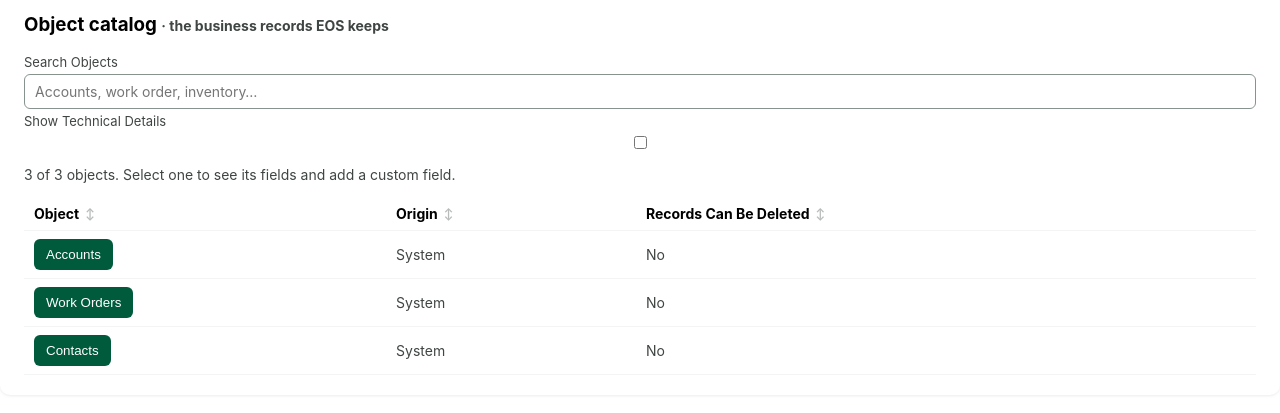
Scenario: Objects catalog › searches by business name and hides keys until technical details are on
In the search field labelled "Search Objects": (640, 92) [24,74,1256,109], type "work"
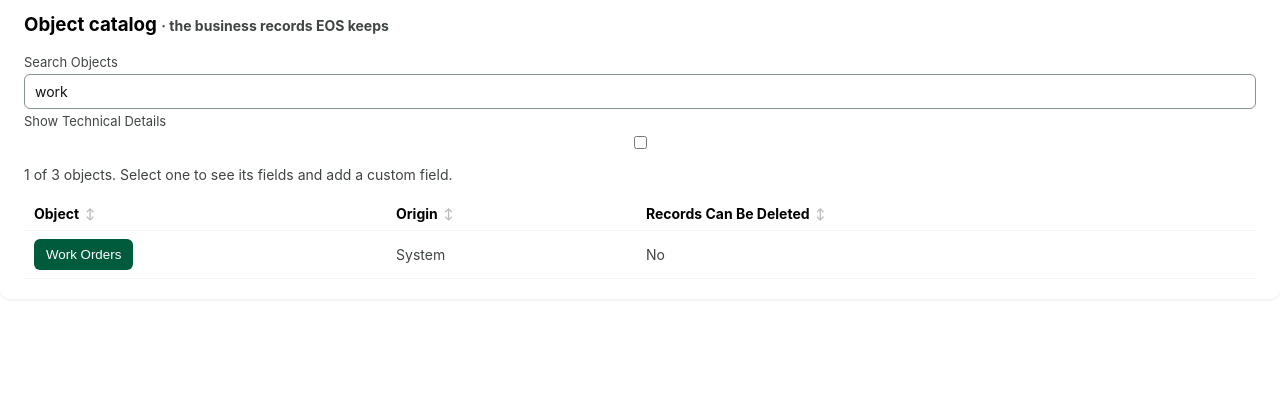
Check: the button "Work Orders" is shown, box [34,239,133,270]
Check: the text "1 of 3 objects" is shown, box [24,166,452,183]
Check: the button "Accounts" is gone
Click the checkbox labelled "Show Technical Details": click(640, 143) [28,136,1253,149]
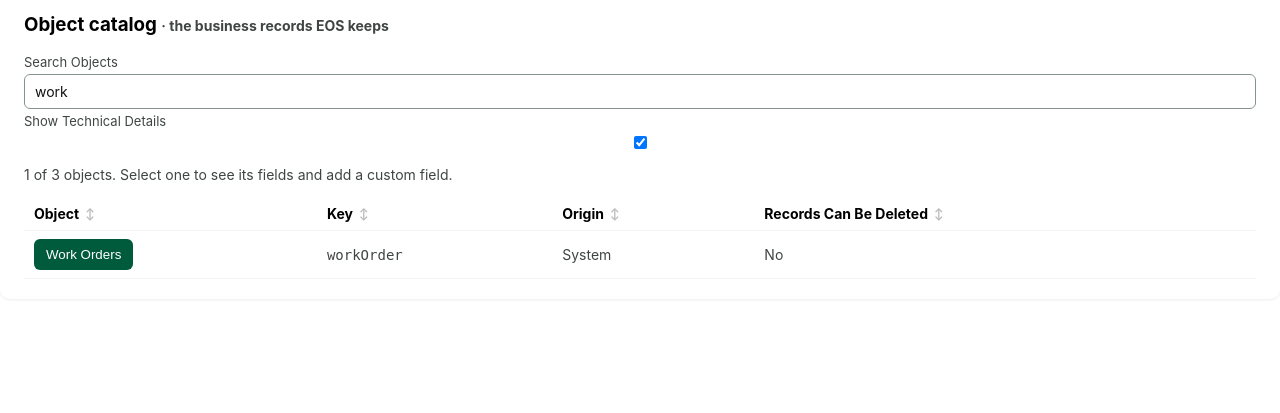
Check: the text "workOrder" is shown, box [327,247,403,263]
